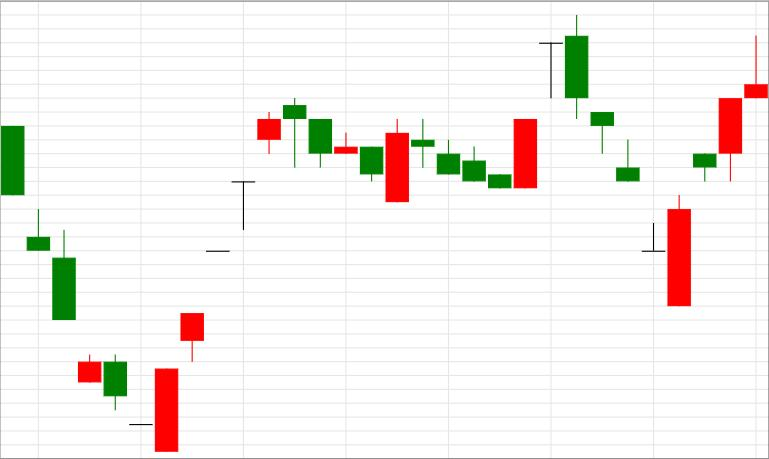bullish_engulfing_rise: (284, 96, 409, 203), (411, 119, 538, 189)
evening_star_fall: (154, 97, 332, 451)
